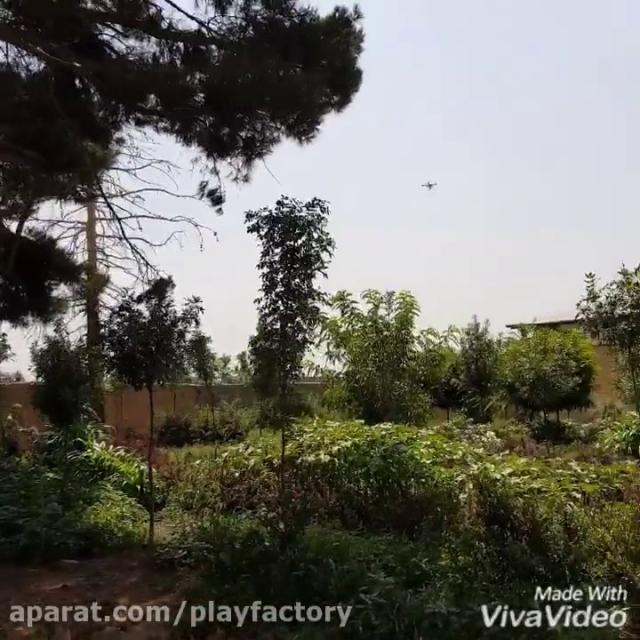drone: (418, 176, 441, 190)
